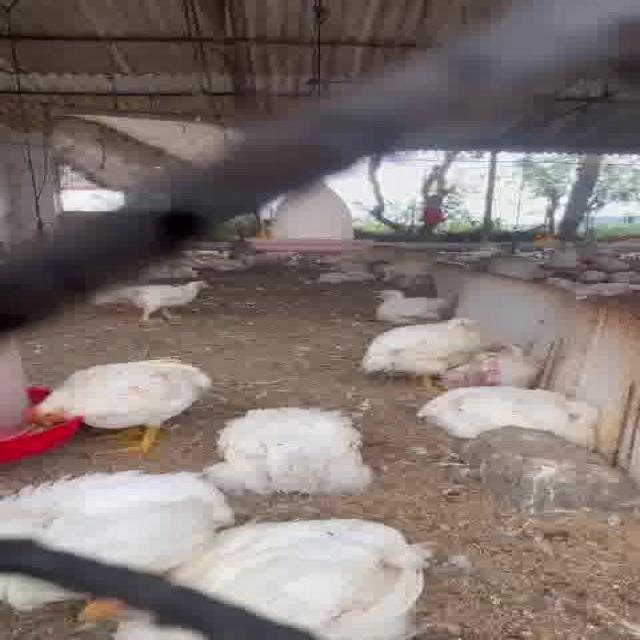AbNormal: (130, 513, 448, 640), (0, 468, 236, 598), (192, 398, 388, 496), (393, 384, 640, 457), (345, 275, 477, 326), (428, 343, 564, 388)
Normal: (30, 342, 234, 456), (340, 312, 492, 394), (78, 275, 242, 332)
